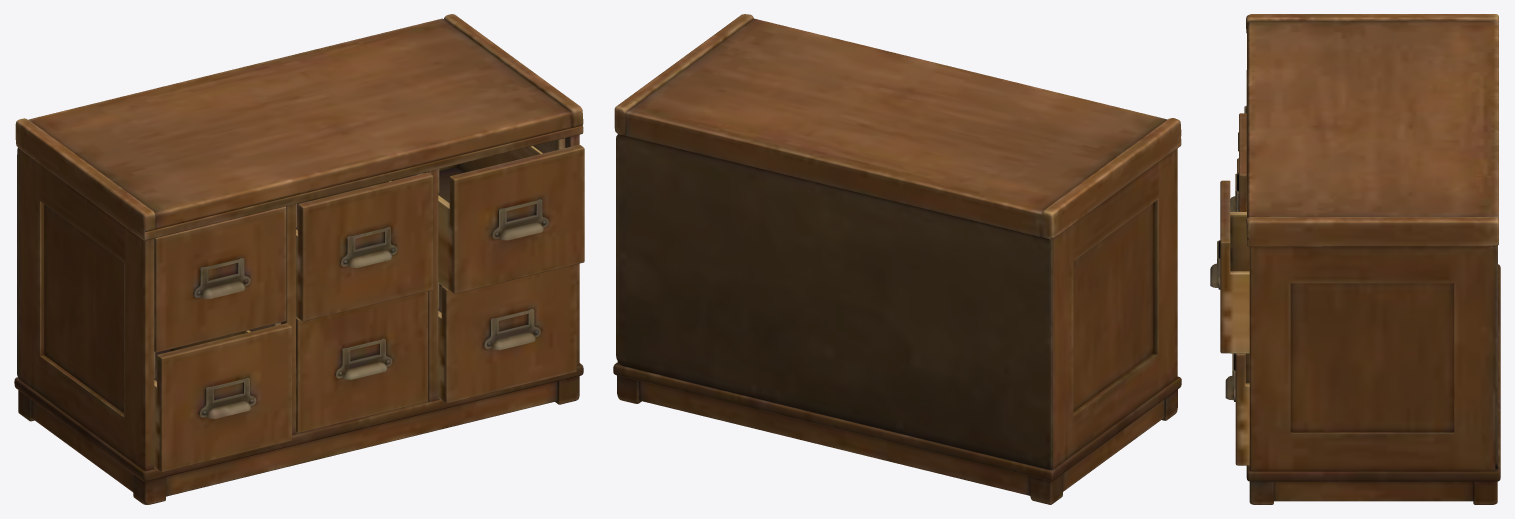
Rendered from vintage_wooden_drawer_01.glb.
3 renders of one model, left to right at view 1: azimuth 30°, elevation 25°; view 2: azimuth 150°, elevation 25°; view 3: azimuth 270°, elevation 25°, orthographic. The views are drawn at different scales.
Parts seen in each view (by area): view 1: vintage_wooden_drawer_01_body; view 2: vintage_wooden_drawer_01_body; view 3: vintage_wooden_drawer_01_body.
Boxes of the visible parts, <box> form: vintage_wooden_drawer_01_body: <box>14,14,584,504</box>; vintage_wooden_drawer_01_body: <box>613,14,1181,504</box>; vintage_wooden_drawer_01_body: <box>1210,14,1500,504</box>.
Bounding box in the file's own units: 1.72 × 1.09 × 1.01.
Materials: 1 (1 with a texture image).
